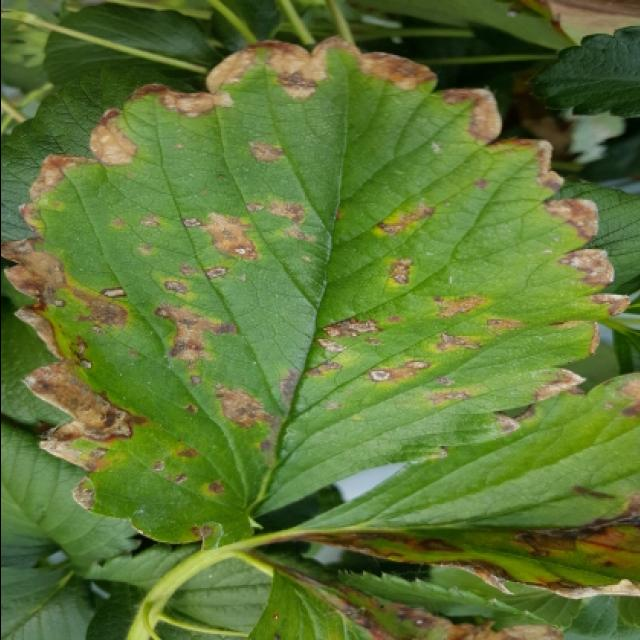Angular Leafspot: (2, 33, 631, 549), (262, 371, 640, 598), (249, 552, 587, 640)
